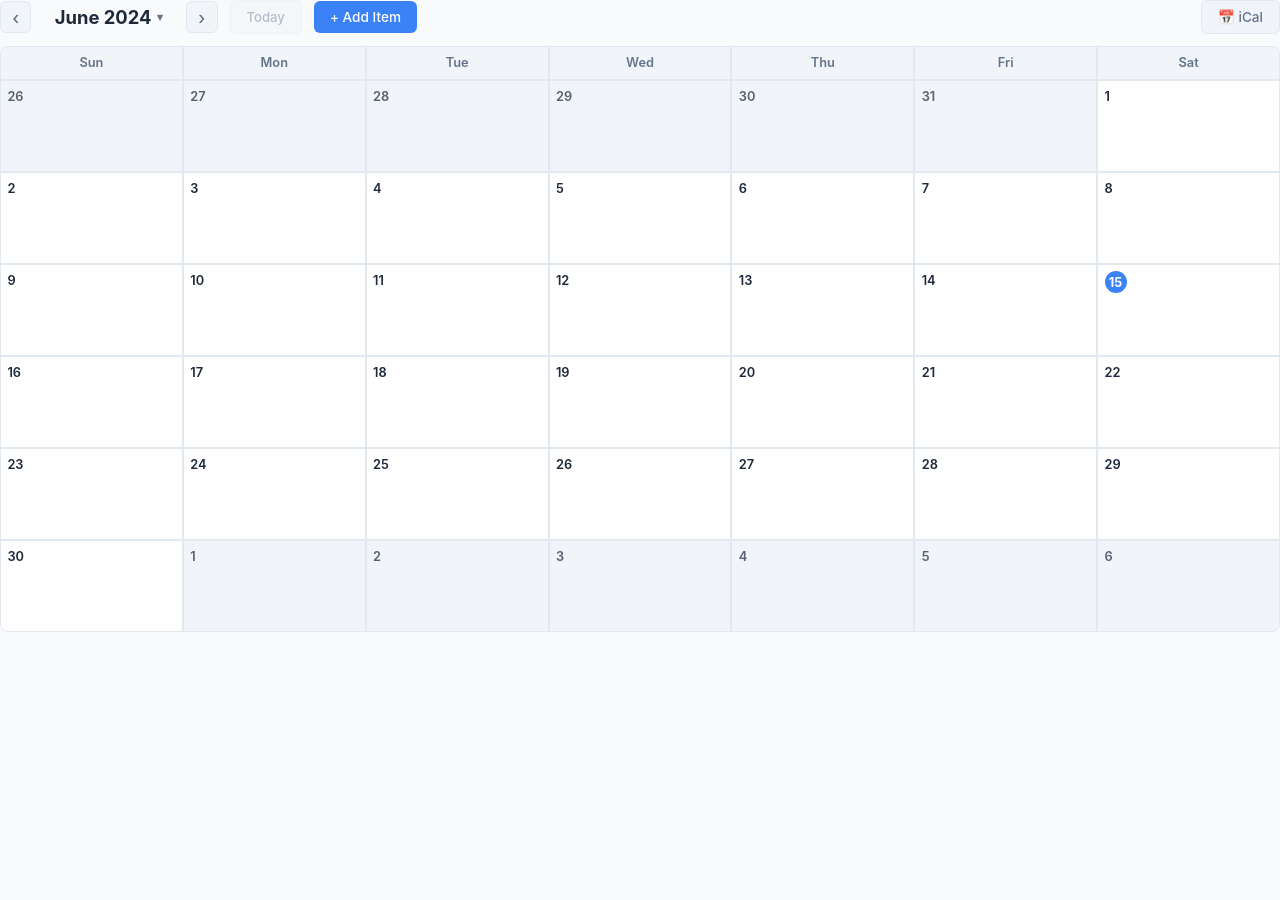
CalendarView › opens add item modal when + Add Item button is clicked
Click the button with class "add-btn" at (365, 17), box left=314, top=1, right=417, bottom=33
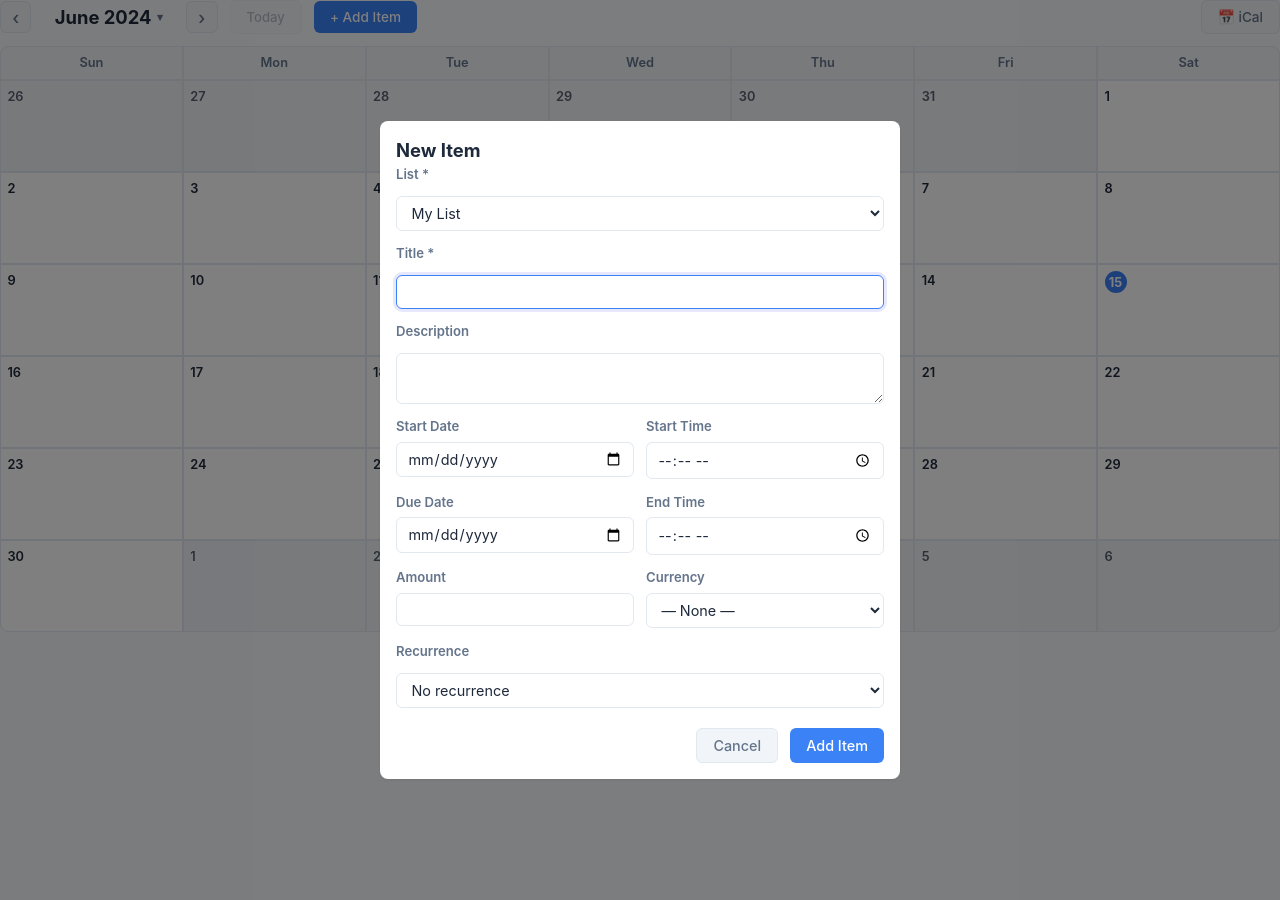
Now the text "New Item" is shown, box left=396, top=139, right=480, bottom=161
